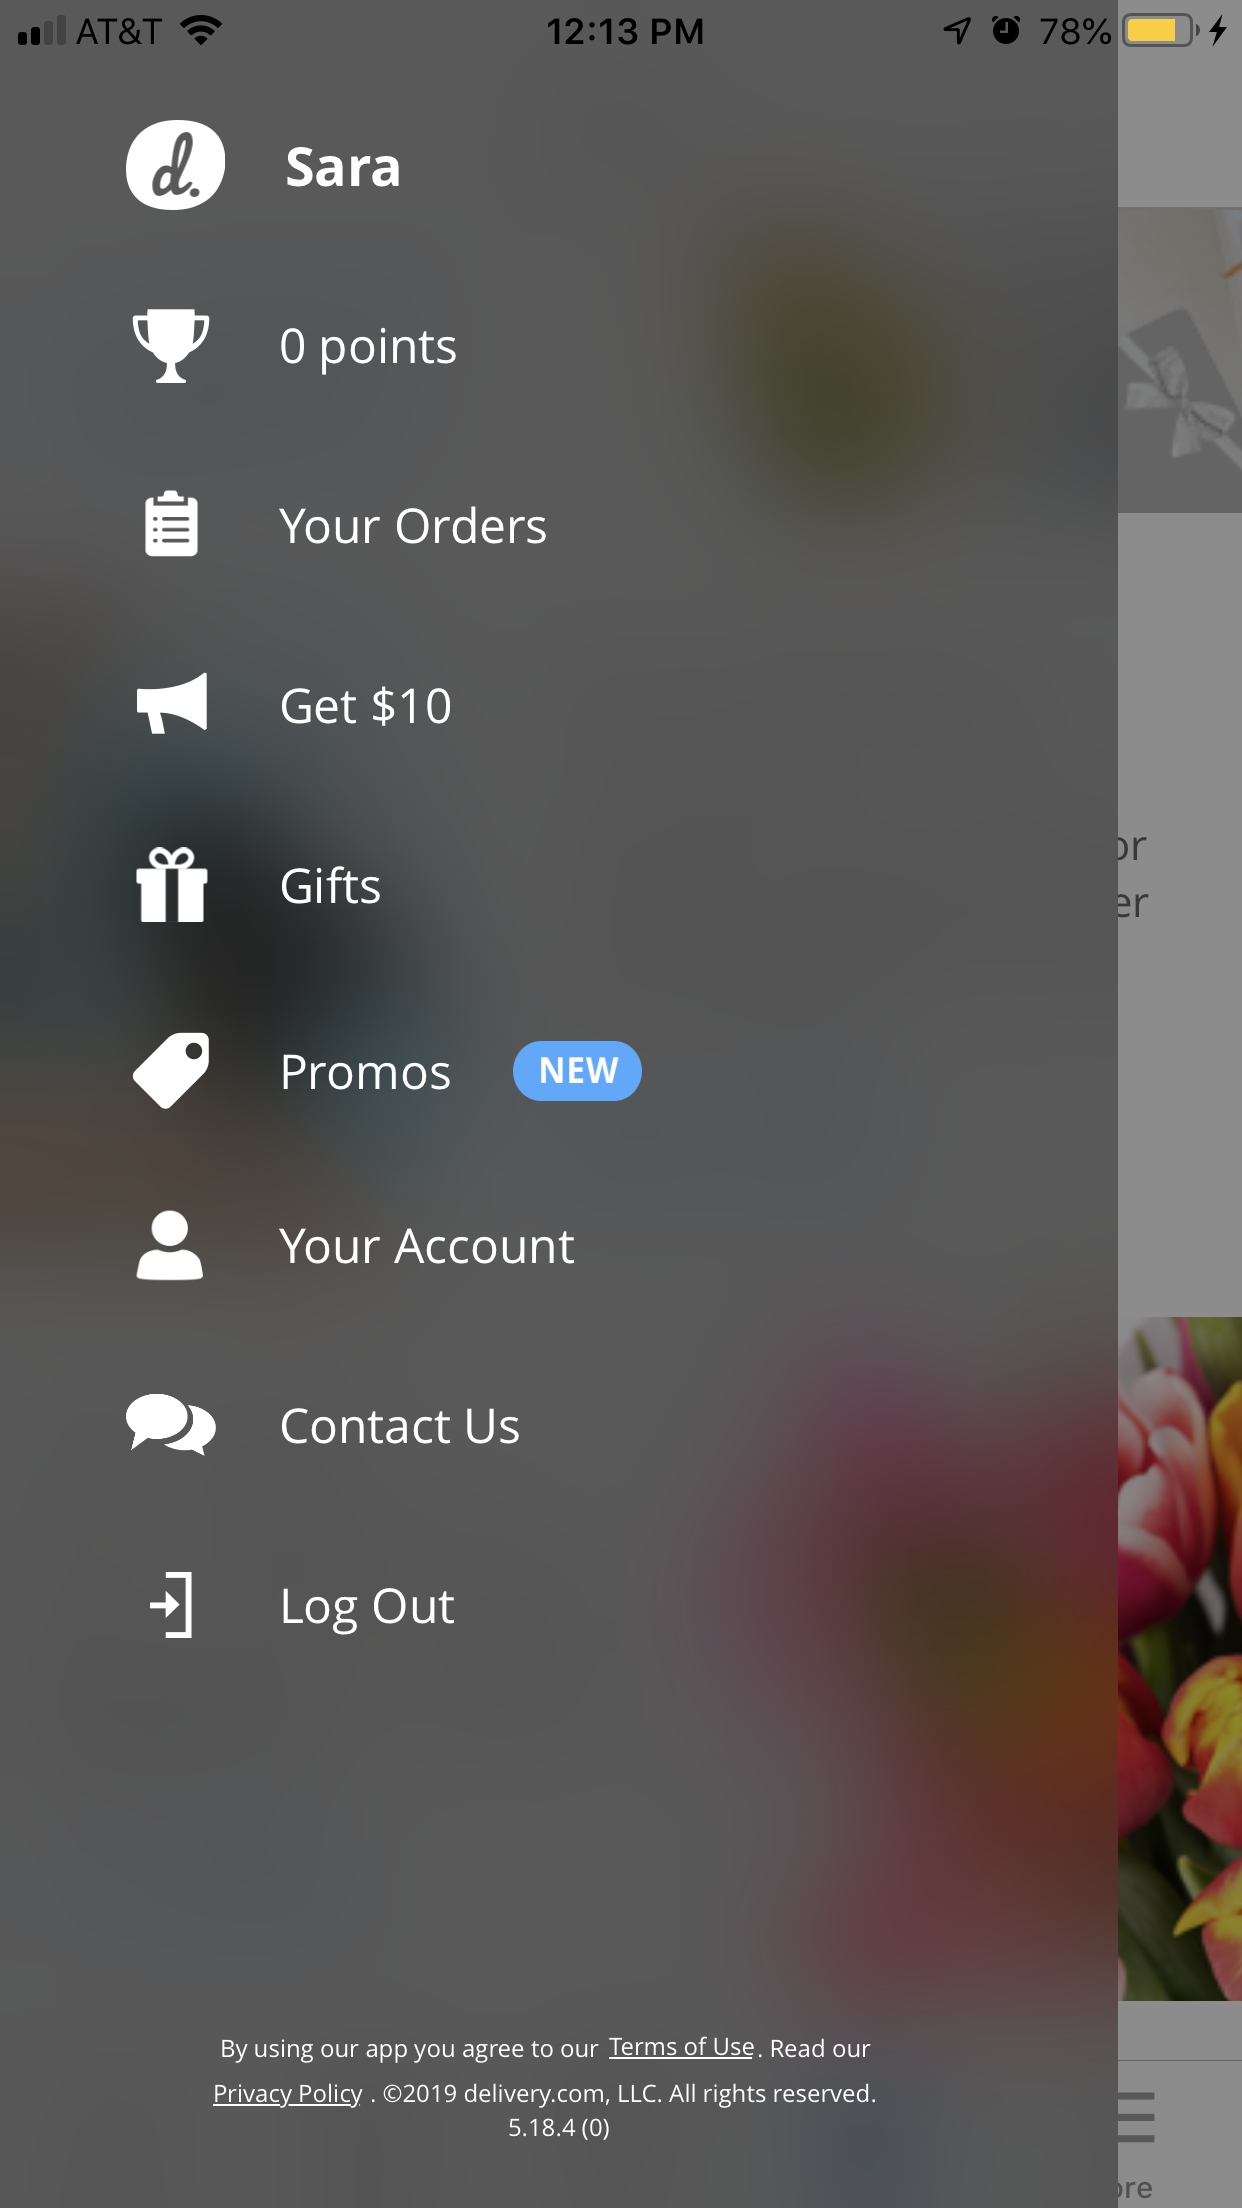Drawer: (2, 2, 1118, 2208)
Icon: (133, 1033, 211, 1110), (126, 1394, 218, 1457), (136, 848, 209, 924), (136, 1209, 205, 1281), (146, 490, 199, 560), (150, 1571, 194, 1639)
Image: (126, 120, 227, 212), (133, 309, 211, 385), (136, 672, 209, 735)
Text: (212, 2035, 875, 2109), (279, 1227, 576, 1266), (279, 507, 547, 544), (282, 1407, 522, 1447), (281, 328, 456, 378), (282, 1586, 456, 1636), (281, 685, 452, 728), (284, 1054, 452, 1092), (290, 147, 400, 187), (282, 864, 382, 905), (508, 2115, 610, 2141)
TextButton: (513, 1040, 645, 1102)
UpperTaskBar: (2, 2, 1242, 49)
